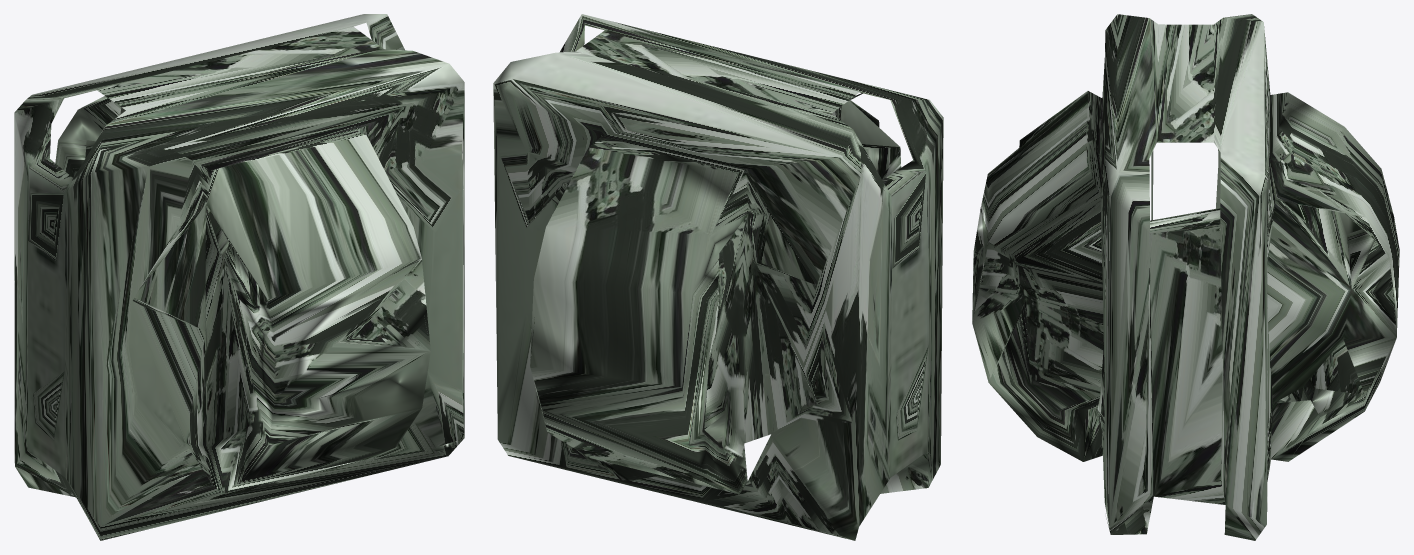
The model's file is timer.glb.
The picture shows the model from 3 angles, left to right: view 1: azimuth 30°, elevation 25°; view 2: azimuth 150°, elevation 25°; view 3: azimuth 270°, elevation 25°; orthographic projection. The views are drawn at different scales.
Visible parts, largest first — view 1: timer; view 2: timer; view 3: timer.
Boxes of the visible parts, x1=… form: timer: x1=14, y1=14, x2=464, y2=540; timer: x1=493, y1=14, x2=943, y2=540; timer: x1=972, y1=14, x2=1399, y2=540.
Bounding box in the file's own units: 0.9831 × 1 × 0.9972.
Materials: 1 (1 with a texture image).
